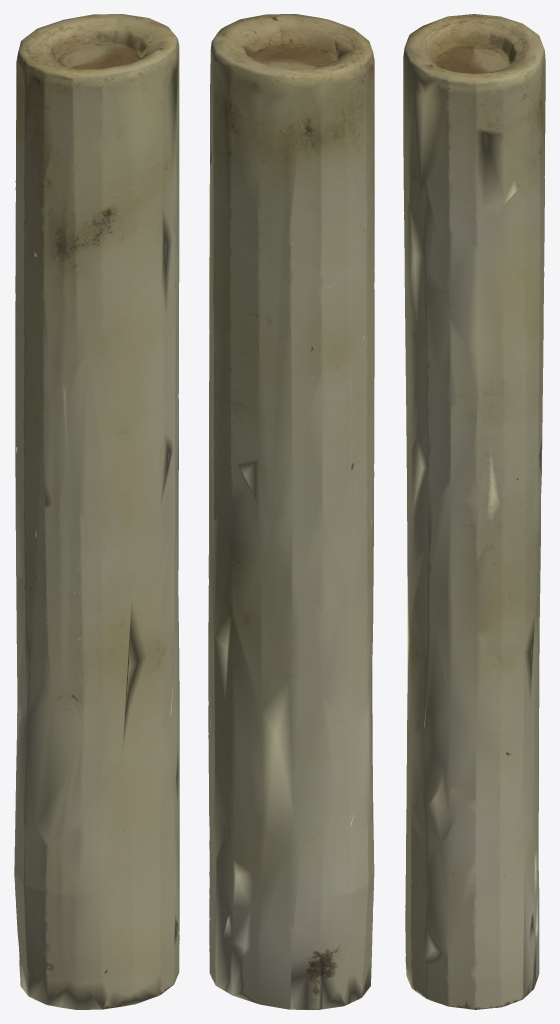
The model's file is jade-tube-roaming.glb.
3 renders of one model, left to right at view 1: azimuth 30°, elevation 25°; view 2: azimuth 150°, elevation 25°; view 3: azimuth 270°, elevation 25°, orthographic.
Parts seen in each view (by area): view 1: node_0; view 2: node_0; view 3: node_0.
Part boxes in pixels (x1,y1,x2,y2): node_0: (14, 14, 179, 1009); node_0: (208, 14, 374, 1009); node_0: (403, 14, 545, 1009).
Bounding box in the file's own units: 0.1982 × 1.19 × 0.1641.
1 material, 1 textured.
